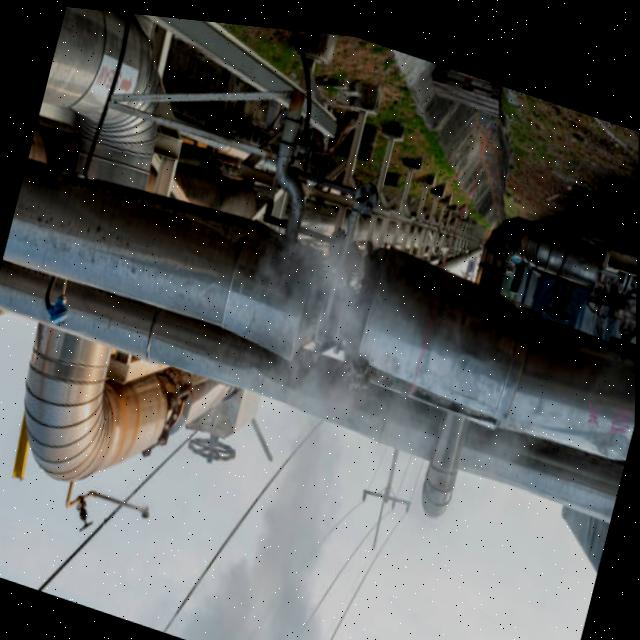corrosion: (221, 176, 407, 512)
